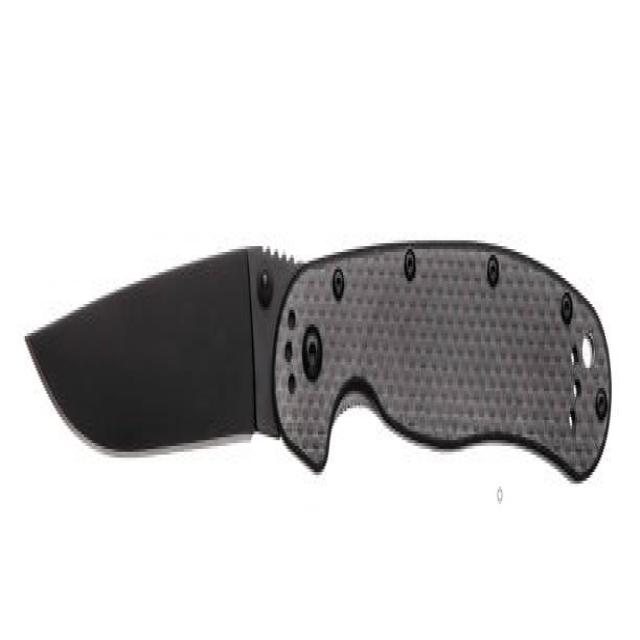knife: (17, 213, 614, 527)
